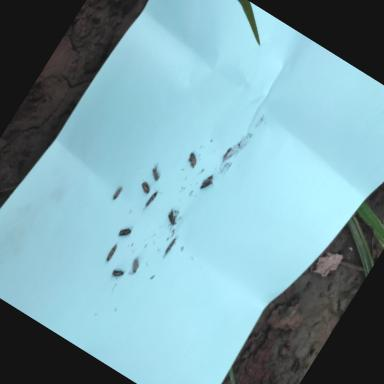pbw: (138, 186, 164, 214), (161, 208, 182, 230), (146, 160, 166, 182), (160, 237, 177, 260), (198, 173, 215, 193), (117, 222, 135, 240), (104, 242, 120, 262), (110, 265, 126, 281), (184, 152, 200, 168), (128, 256, 142, 273), (138, 180, 152, 194), (112, 185, 124, 200)
